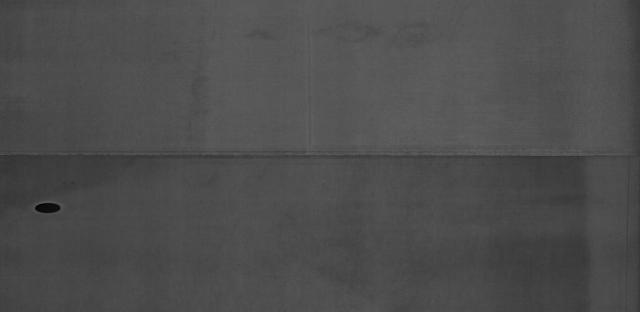punching_hole: (28, 197, 68, 219)
welding_line: (1, 144, 639, 166)
